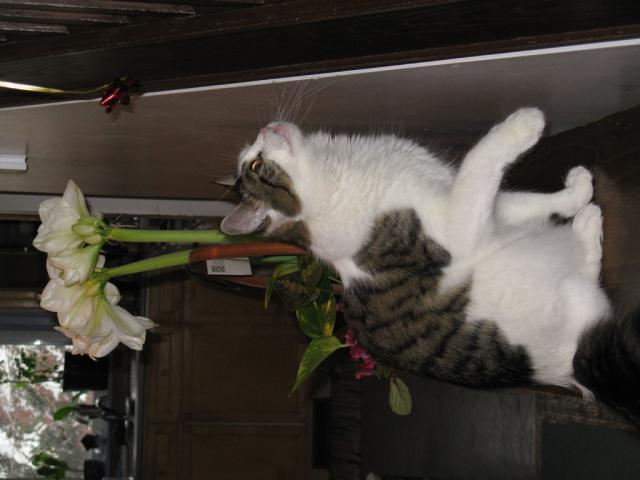Cat: (216, 75, 640, 428)
